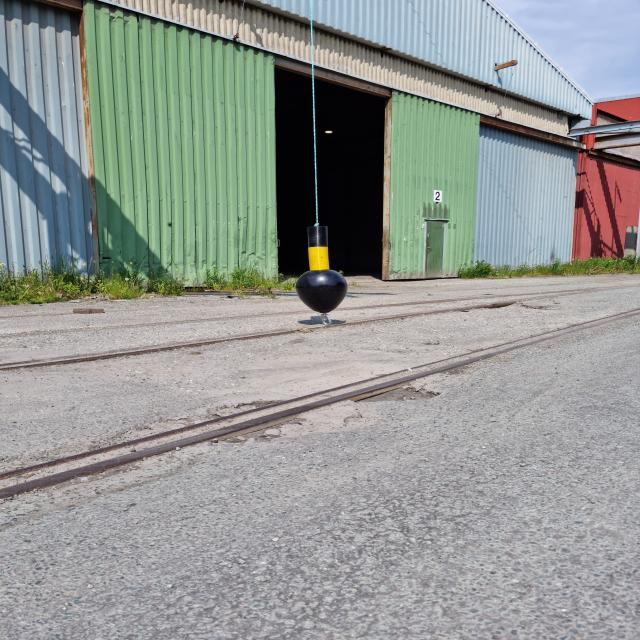east: (295, 224, 348, 315)
